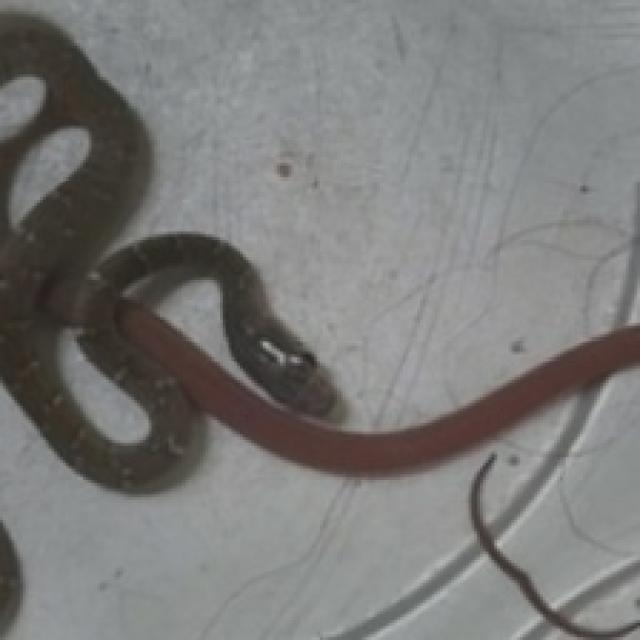reddish rat snake: (0, 14, 640, 491)
